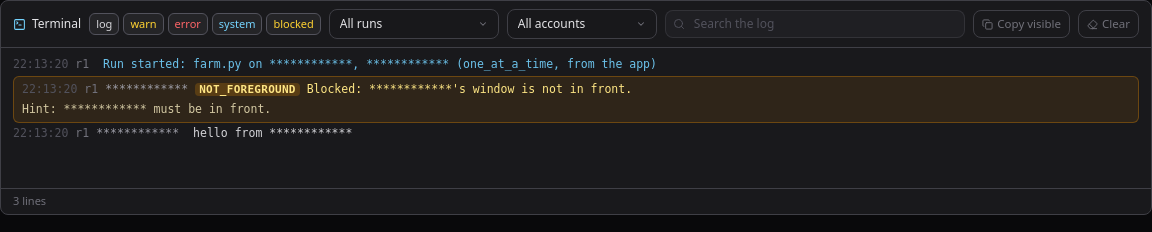
PythonTerminal › hides account names inside messages when names are hidden
Expected: the text "Run started" is shown, top-left (103, 57), bottom-right (657, 71)
Note: Searching for a hidden name finds nothing (it would reveal which line has it).
Type "Alt_02" into the field labelled "Search the log" at (815, 24), box top-left (665, 10), bottom-right (965, 38)
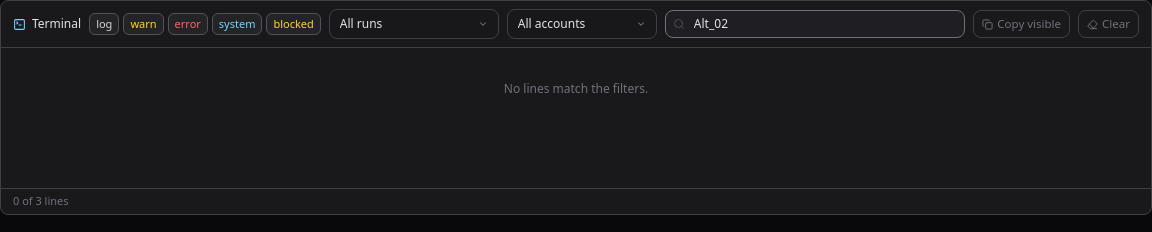
Expected: the text "No lines match the filters." is shown, top-left (504, 80), bottom-right (648, 97)
